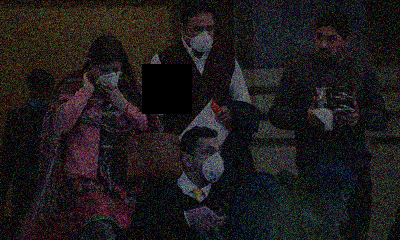with_mask: (191, 143, 225, 182), (183, 21, 215, 51), (92, 64, 123, 89), (28, 91, 52, 113)
without_mask: (314, 30, 345, 61)
